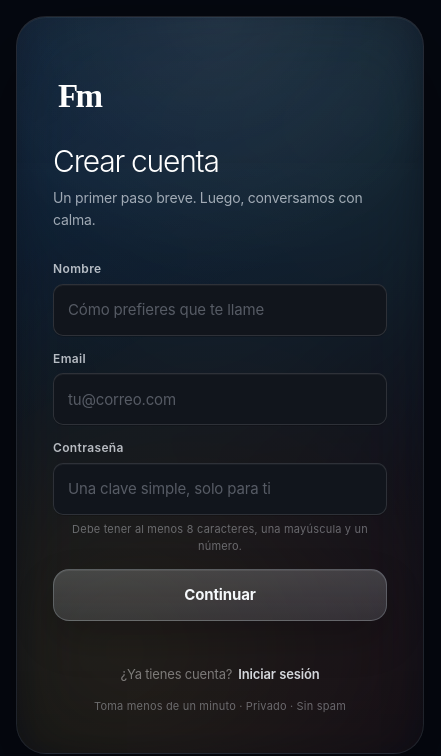
Test: RegisterPage › validates email format
Type "not-an-email" into the field with placeholder "tu@correo.com".
click(220, 399); type("not-an-email")  # box [53,373,387,425]
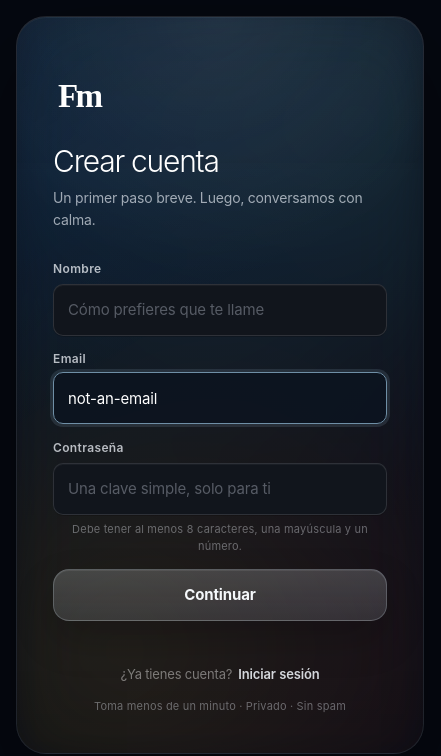
Click the button "Continuar".
click(220, 595)  # box [53,569,387,621]
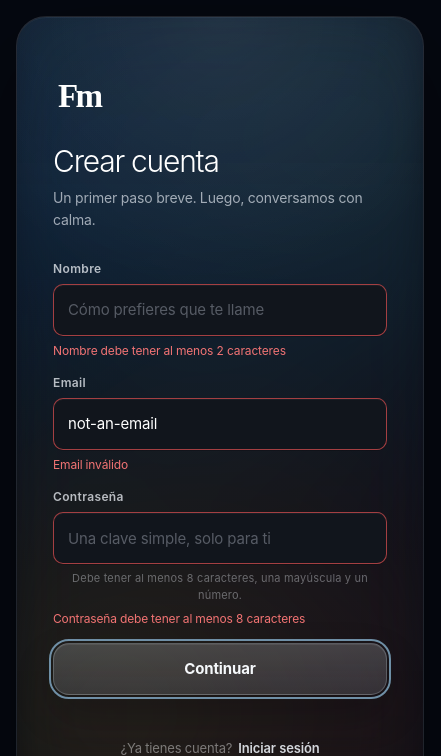
Result: the text "Email inválido" is shown at [53,457,128,472]
